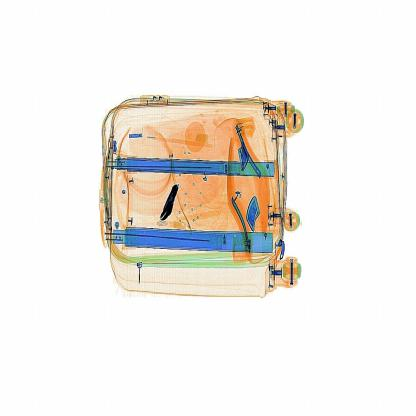knife: (153, 176, 191, 230)
